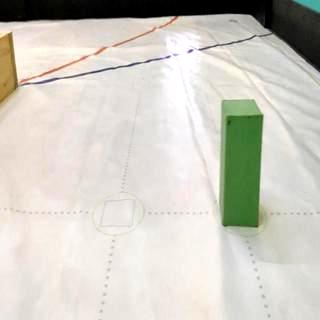greenbox: (220, 100, 265, 226)
